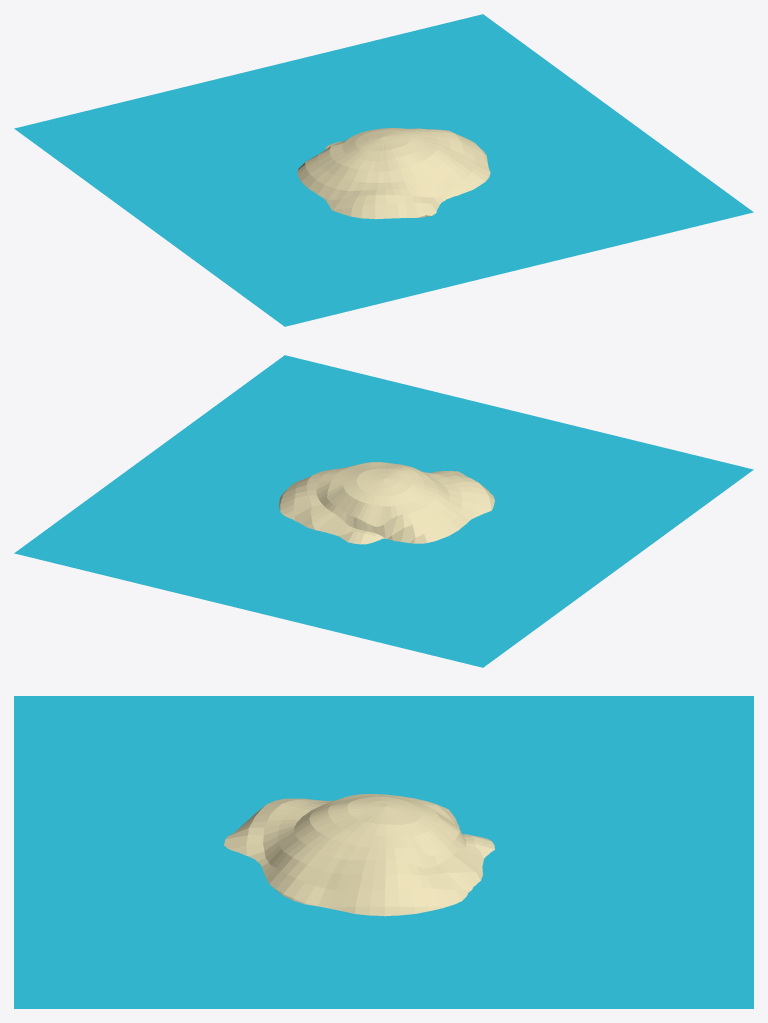
The model's file is island.glb.
3 renders of one model, top to bottom at view 1: azimuth 30°, elevation 25°; view 2: azimuth 150°, elevation 25°; view 3: azimuth 270°, elevation 25°, orthographic. The views are drawn at different scales.
Parts seen in each view (by area): view 1: Plane, Sphere; view 2: Plane, Sphere; view 3: Plane, Sphere.
Boxes of the visible parts, <box> form: Plane: <box>14,14,753,326</box>; Sphere: <box>297,128,490,219</box>; Plane: <box>14,355,753,667</box>; Sphere: <box>279,462,494,544</box>; Plane: <box>14,696,753,1008</box>; Sphere: <box>224,794,494,916</box>.
Bounding box in the file's own units: 24.17 × 4.34 × 24.17.
